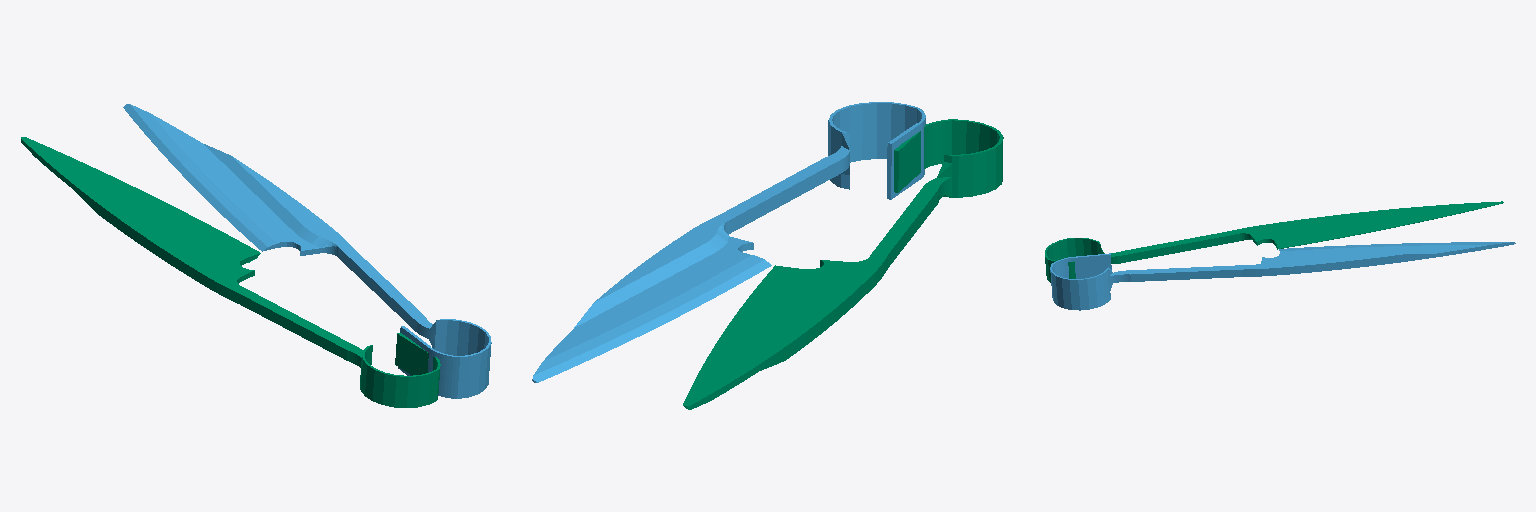
The robot description file, URDF, robot "partnet_492fec23e4c64c524a2f4691c3504a20":
<?xml version="1.0" ?>
<robot name="partnet_492fec23e4c64c524a2f4691c3504a20">
	<link name="base"/>
	<link name="link_0">
		<visual name="blade-14">
			<origin xyz="-0.7828294736009814 -0.014026025454442426 0.08830536924611698"/>
			<geometry>
				<mesh filename="textured_objs/new-7.obj"/>
			</geometry>
		</visual>
		<visual name="handle-15">
			<origin xyz="-0.7828294736009814 -0.014026025454442426 0.08830536924611698"/>
			<geometry>
				<mesh filename="textured_objs/new-6.obj"/>
			</geometry>
		</visual>
		<visual name="handle-15">
			<origin xyz="-0.7828294736009814 -0.014026025454442426 0.08830536924611698"/>
			<geometry>
				<mesh filename="textured_objs/new-0.obj"/>
			</geometry>
		</visual>
		<collision>
			<origin xyz="-0.7828294736009814 -0.014026025454442426 0.08830536924611698"/>
			<geometry>
				<mesh filename="textured_objs/new-7.obj"/>
			</geometry>
		</collision>
		<collision>
			<origin xyz="-0.7828294736009814 -0.014026025454442426 0.08830536924611698"/>
			<geometry>
				<mesh filename="textured_objs/new-6.obj"/>
			</geometry>
		</collision>
		<collision>
			<origin xyz="-0.7828294736009814 -0.014026025454442426 0.08830536924611698"/>
			<geometry>
				<mesh filename="textured_objs/new-0.obj"/>
			</geometry>
		</collision>
	</link>
	<joint name="joint_0" type="revolute">
		<origin xyz="0.7828294736009814 0.014026025454442426 -0.08830536924611698"/>
		<axis xyz="0 -1 0"/>
		<child link="link_0"/>
		<parent link="link_1"/>
		<limit lower="-0.20734511513692636" upper="0.35185837720205726"/>
	</joint>
	<link name="link_1">
		<visual name="blade-12">
			<origin xyz="0 0 0"/>
			<geometry>
				<mesh filename="textured_objs/new-5.obj"/>
			</geometry>
		</visual>
		<visual name="handle-13">
			<origin xyz="0 0 0"/>
			<geometry>
				<mesh filename="textured_objs/new-4.obj"/>
			</geometry>
		</visual>
		<visual name="handle-13">
			<origin xyz="0 0 0"/>
			<geometry>
				<mesh filename="textured_objs/new-2.obj"/>
			</geometry>
		</visual>
		<collision>
			<origin xyz="0 0 0"/>
			<geometry>
				<mesh filename="textured_objs/new-5.obj"/>
			</geometry>
		</collision>
		<collision>
			<origin xyz="0 0 0"/>
			<geometry>
				<mesh filename="textured_objs/new-4.obj"/>
			</geometry>
		</collision>
		<collision>
			<origin xyz="0 0 0"/>
			<geometry>
				<mesh filename="textured_objs/new-2.obj"/>
			</geometry>
		</collision>
	</link>
	<joint name="joint_1" type="fixed">
		<origin rpy="1.570796326794897 0 -1.570796326794897" xyz="0 0 0"/>
		<child link="link_1"/>
		<parent link="base"/>
	</joint>
</robot>

--- Facts derived from the render (not from the file) ---
Views: 3 orthographic renders of the robot side by side, from view 1: azimuth 30°, elevation 25°; view 2: azimuth 150°, elevation 25°; view 3: azimuth 270°, elevation 25°.
Model partnet_492fec23e4c64c524a2f4691c3504a20 with 3 links and 2 joints (1 revolute, 1 fixed), rooted at base, posed every joint at zero.
Links seen in each view (by area): view 1: link_1, link_0; view 2: link_0, link_1; view 3: link_0, link_1.
Boxes of the visible links, box(x1,y1,x2,y2) form: link_1: box(21, 137, 440, 407); link_0: box(123, 104, 491, 398); link_0: box(532, 102, 925, 382); link_1: box(683, 119, 1003, 409); link_0: box(1050, 242, 1515, 310); link_1: box(1045, 201, 1503, 282).
Bounding box of the posed robot: 0.5863 × 1.86 × 0.2144 m (x, y, z).
Meshes: 6 distinct files referenced, 6 mesh visuals loaded (6 OBJ).
